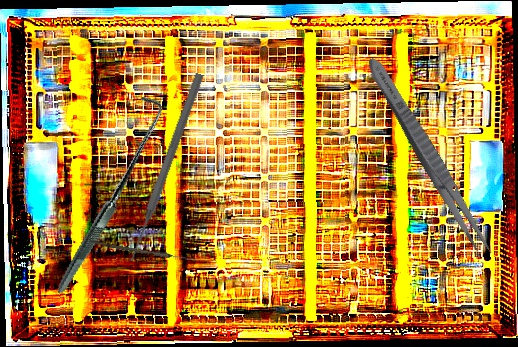Dressing Forceps: (360, 53, 499, 261)
Hook Surgical: (2, 91, 212, 295)
Pusher: (125, 71, 206, 264)
Surgical Spoon: (89, 240, 200, 263)
